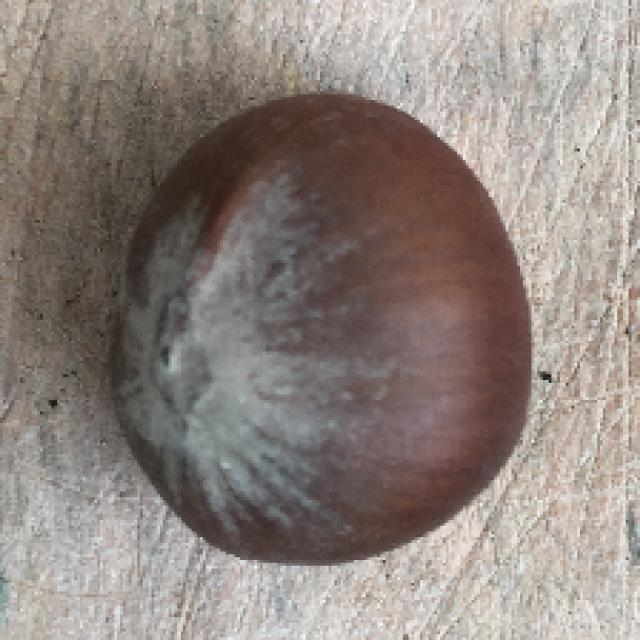qualityHazelnut: (106, 83, 534, 572)
